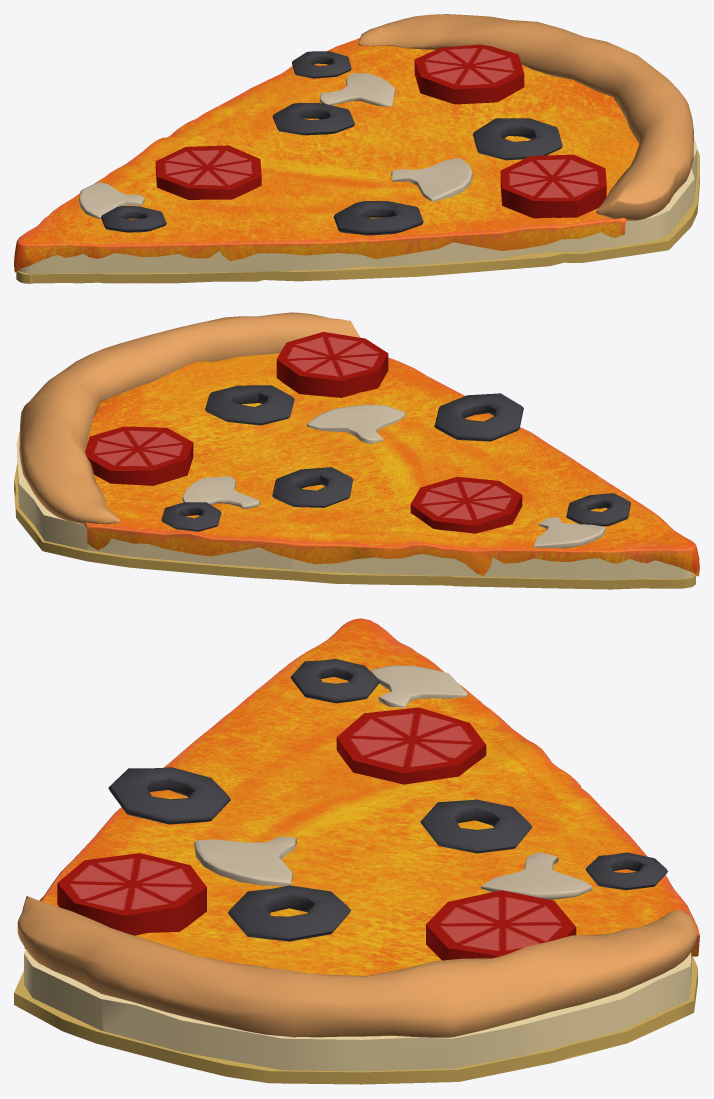
Rendered from Pizza slice.glb.
3 renders of one model, top to bottom at view 1: azimuth 30°, elevation 25°; view 2: azimuth 150°, elevation 25°; view 3: azimuth 270°, elevation 25°, orthographic. The views are drawn at different scales.
Parts seen in each view (by area): view 1: Pizza_Slice.1; view 2: Pizza_Slice.1; view 3: Pizza_Slice.1.
Part boxes in pixels (x1,y1,x2,y2): Pizza_Slice.1: [14, 14, 699, 283]; Pizza_Slice.1: [14, 312, 699, 589]; Pizza_Slice.1: [14, 618, 699, 1084].
Size of the model in its own units: 0.0803 by 0.00858 by 0.0557.
Materials: 1 (1 with a texture image).
